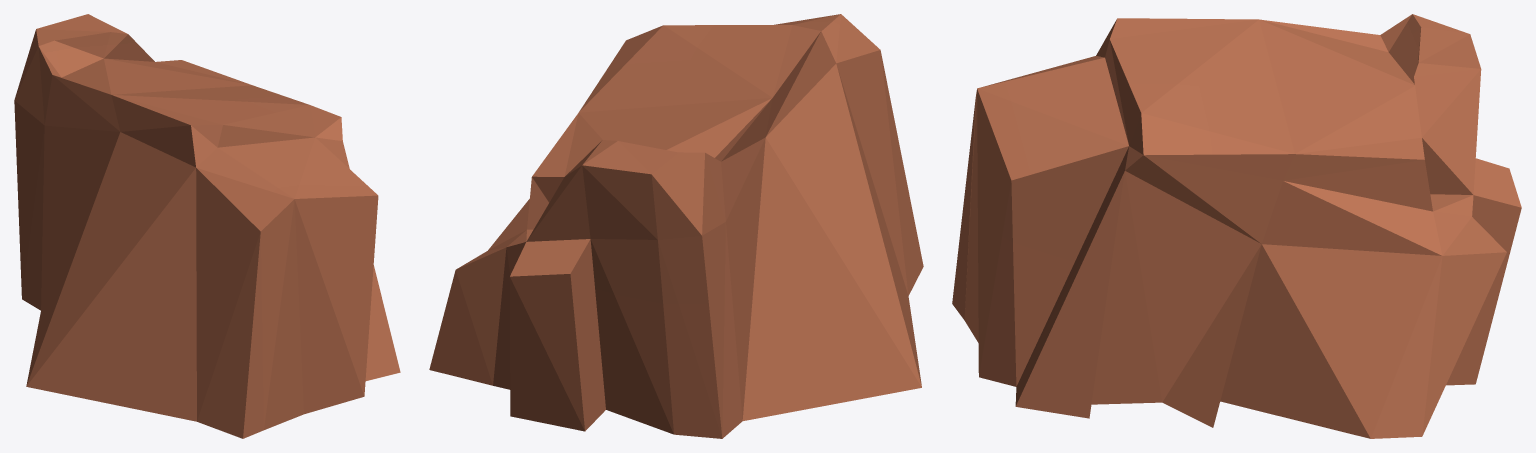
The model's file is TreePackage.fbx_Rocks_5.fbx.
3 renders of one model, left to right at view 1: azimuth 30°, elevation 25°; view 2: azimuth 150°, elevation 25°; view 3: azimuth 270°, elevation 25°, orthographic. The views are drawn at different scales.
Visible parts, largest first — view 1: RockCluster.003; view 2: RockCluster.003; view 3: RockCluster.003.
Part boxes in pixels (box(x1,y1,x2,y2)): RockCluster.003: box(14, 14, 400, 438); RockCluster.003: box(429, 14, 923, 438); RockCluster.003: box(952, 14, 1521, 438).
Bounding box in the file's own units: 179 × 128 × 220.
